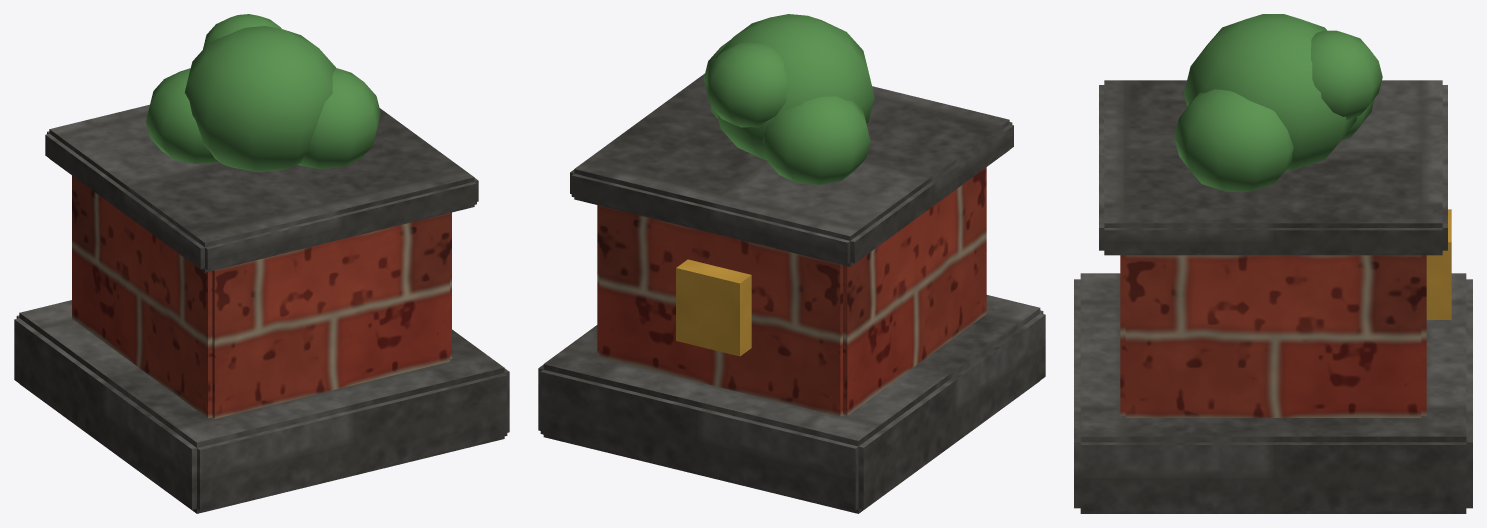
File: prop_thulasithara.glb
3 views of the same model, side by side, from view 1: azimuth 30°, elevation 25°; view 2: azimuth 150°, elevation 25°; view 3: azimuth 270°, elevation 25° (orthographic). The views are drawn at different scales.
Visible parts, largest first — view 1: prop_thulasithara; view 2: prop_thulasithara; view 3: prop_thulasithara.
Part boxes in pixels (x1,y1,x2,y2): prop_thulasithara: [14, 14, 509, 513]; prop_thulasithara: [538, 14, 1045, 513]; prop_thulasithara: [1074, 14, 1472, 513].
Bounding box in the file's own units: 1.12 × 1.27 × 1.12.
Materials: 4 (3 with a texture image).
